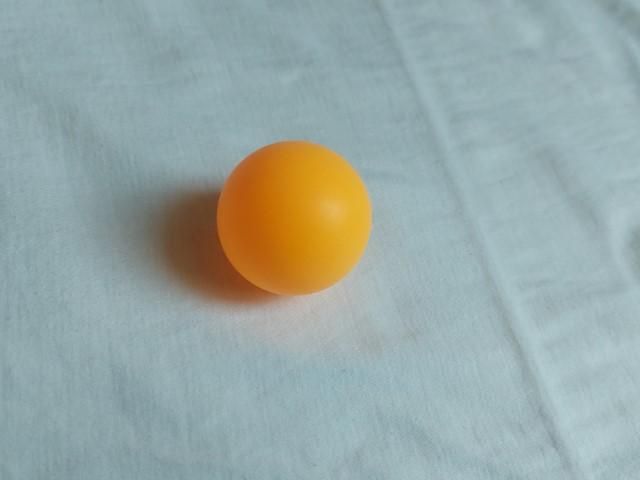oball: (209, 134, 381, 302)
